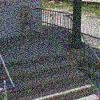stairs: (0, 51, 91, 100)
